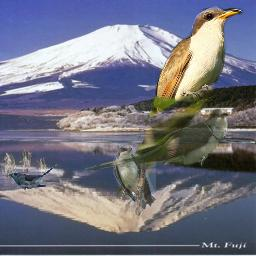Cuckoo: (115, 3, 245, 201), (83, 107, 228, 173), (6, 164, 59, 190)
Swallow: (113, 145, 156, 210)
